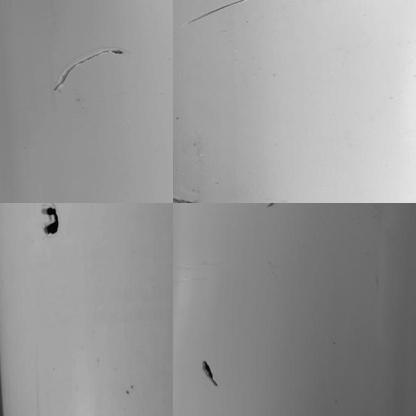fengxi: (50, 43, 122, 91)
kongdong: (36, 207, 64, 234), (201, 361, 219, 386)
sunshang: (185, 1, 247, 25)
